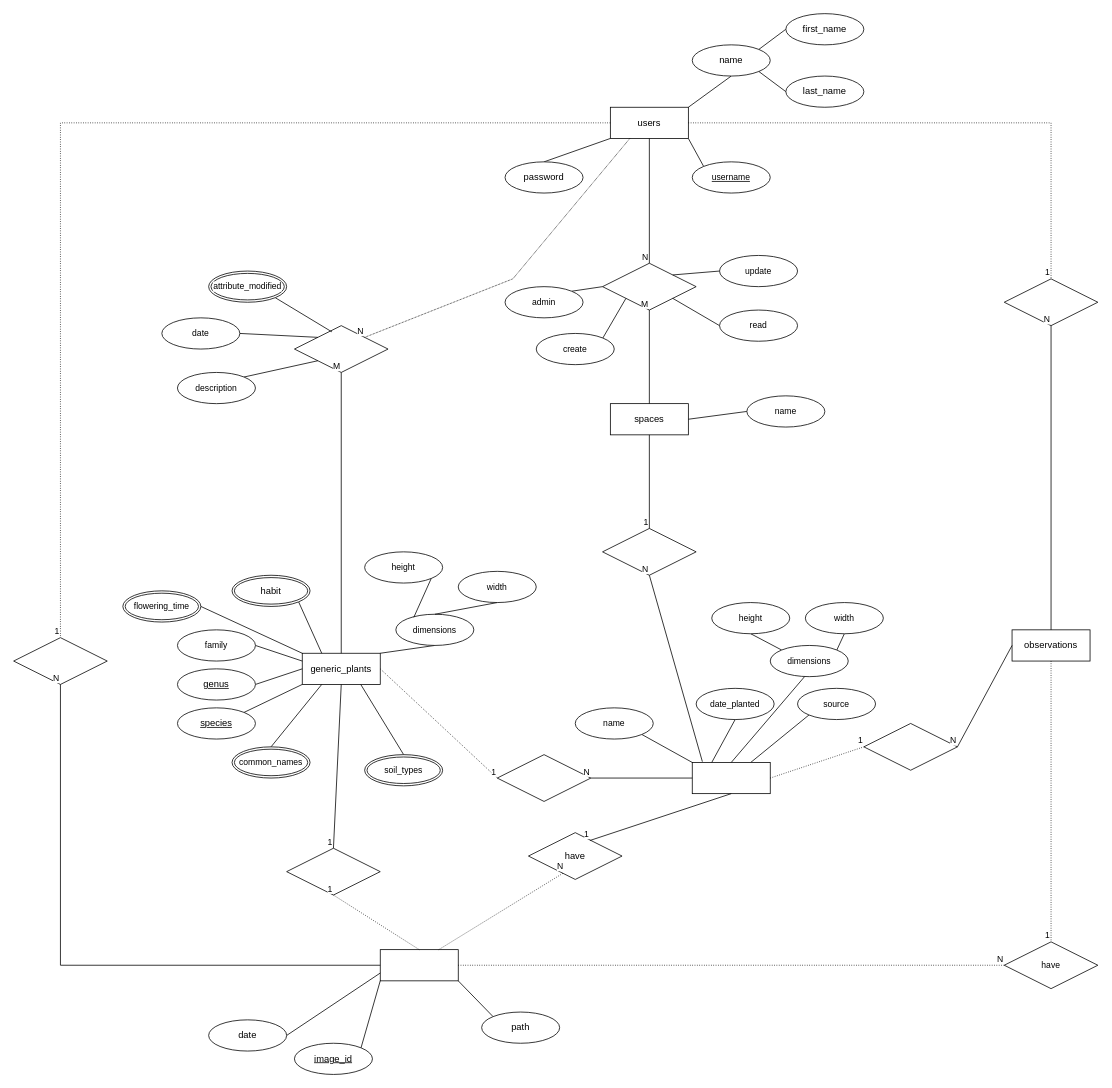
This 1112x1088 diagram has some shape labels left out. Each missing label, with the centre of its shape:
actual_plants: [730,778]
contain: [649,551]
has a: [333,871]
have_permissions: [649,286]
images: [418,965]
is a: [543,777]
made_by: [1050,302]
modified: [341,348]
of: [910,746]
uploaded_by: [60,660]
